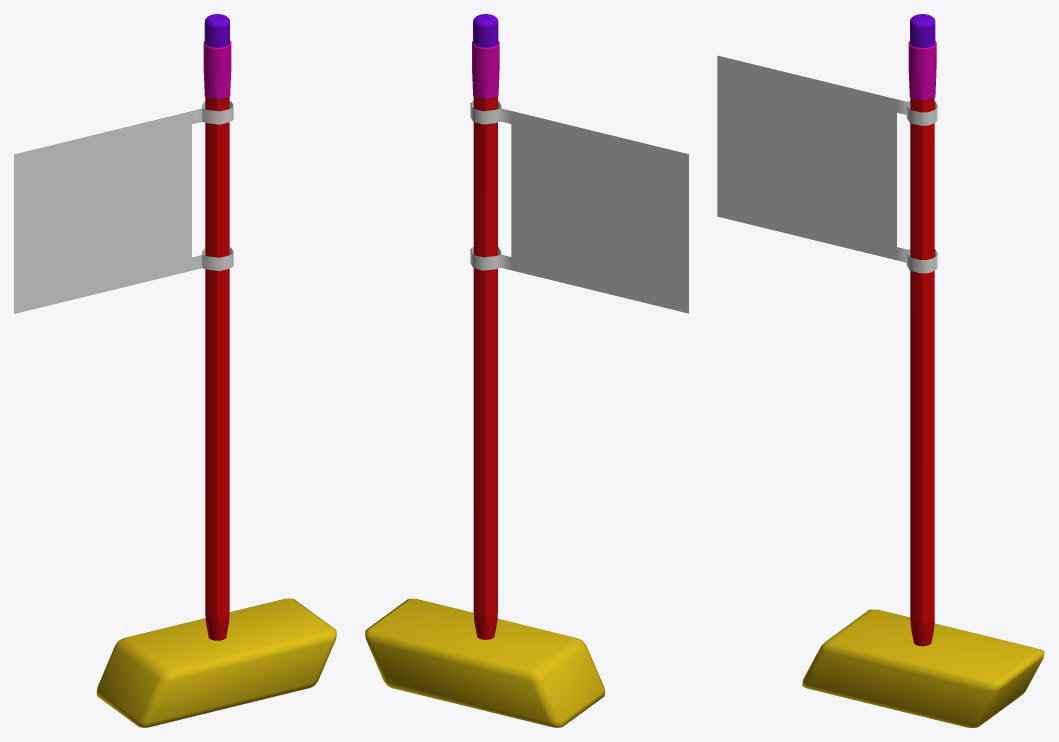
Rendered from flag_flag.fbx.
3 renders of one model, left to right at view 1: azimuth 30°, elevation 25°; view 2: azimuth 150°, elevation 25°; view 3: azimuth 330°, elevation 25°, orthographic.
Parts seen in each view (by area): view 1: Cube, Cube.001; view 2: Cube, Cube.001; view 3: Cube, Cube.001.
Boxes of the visible parts, x1,y1,x2,y2 form: Cube: (96,14,336,727); Cube.001: (14,101,233,313); Cube: (365,14,604,727); Cube.001: (470,101,688,313); Cube: (802,14,1044,727); Cube.001: (717,55,938,273).
Size of the model in its own units: 11.88 by 25.27 by 3.5.
